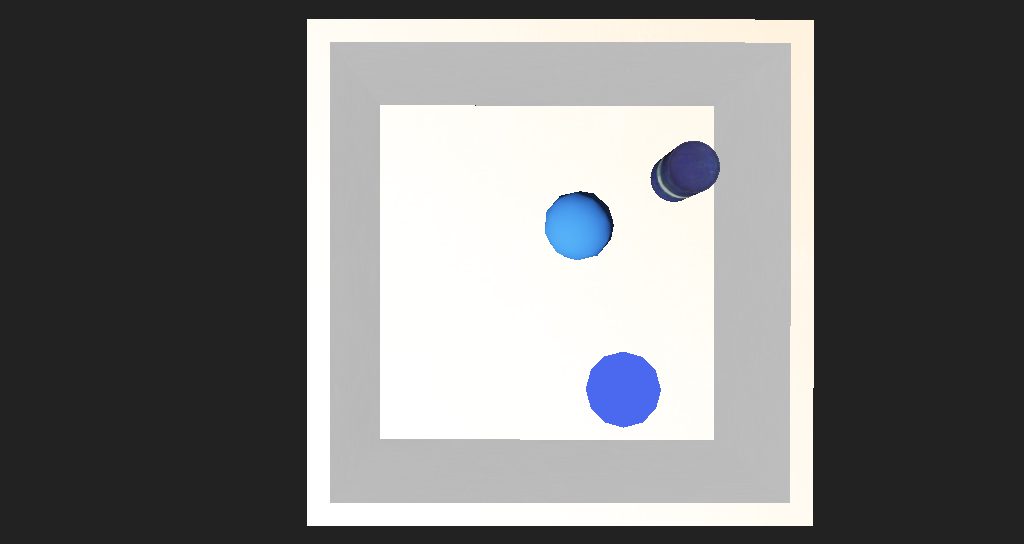cone: (600, 186, 653, 224)
cylinder: (542, 317, 603, 370)
sphere: (499, 215, 566, 262)
